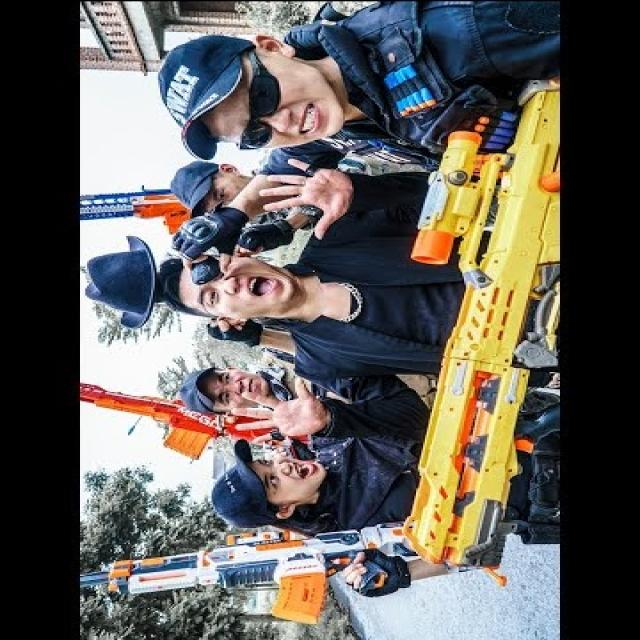Nerf gun: (389, 82, 560, 582), (85, 515, 416, 629), (82, 386, 302, 466), (81, 183, 214, 244)
